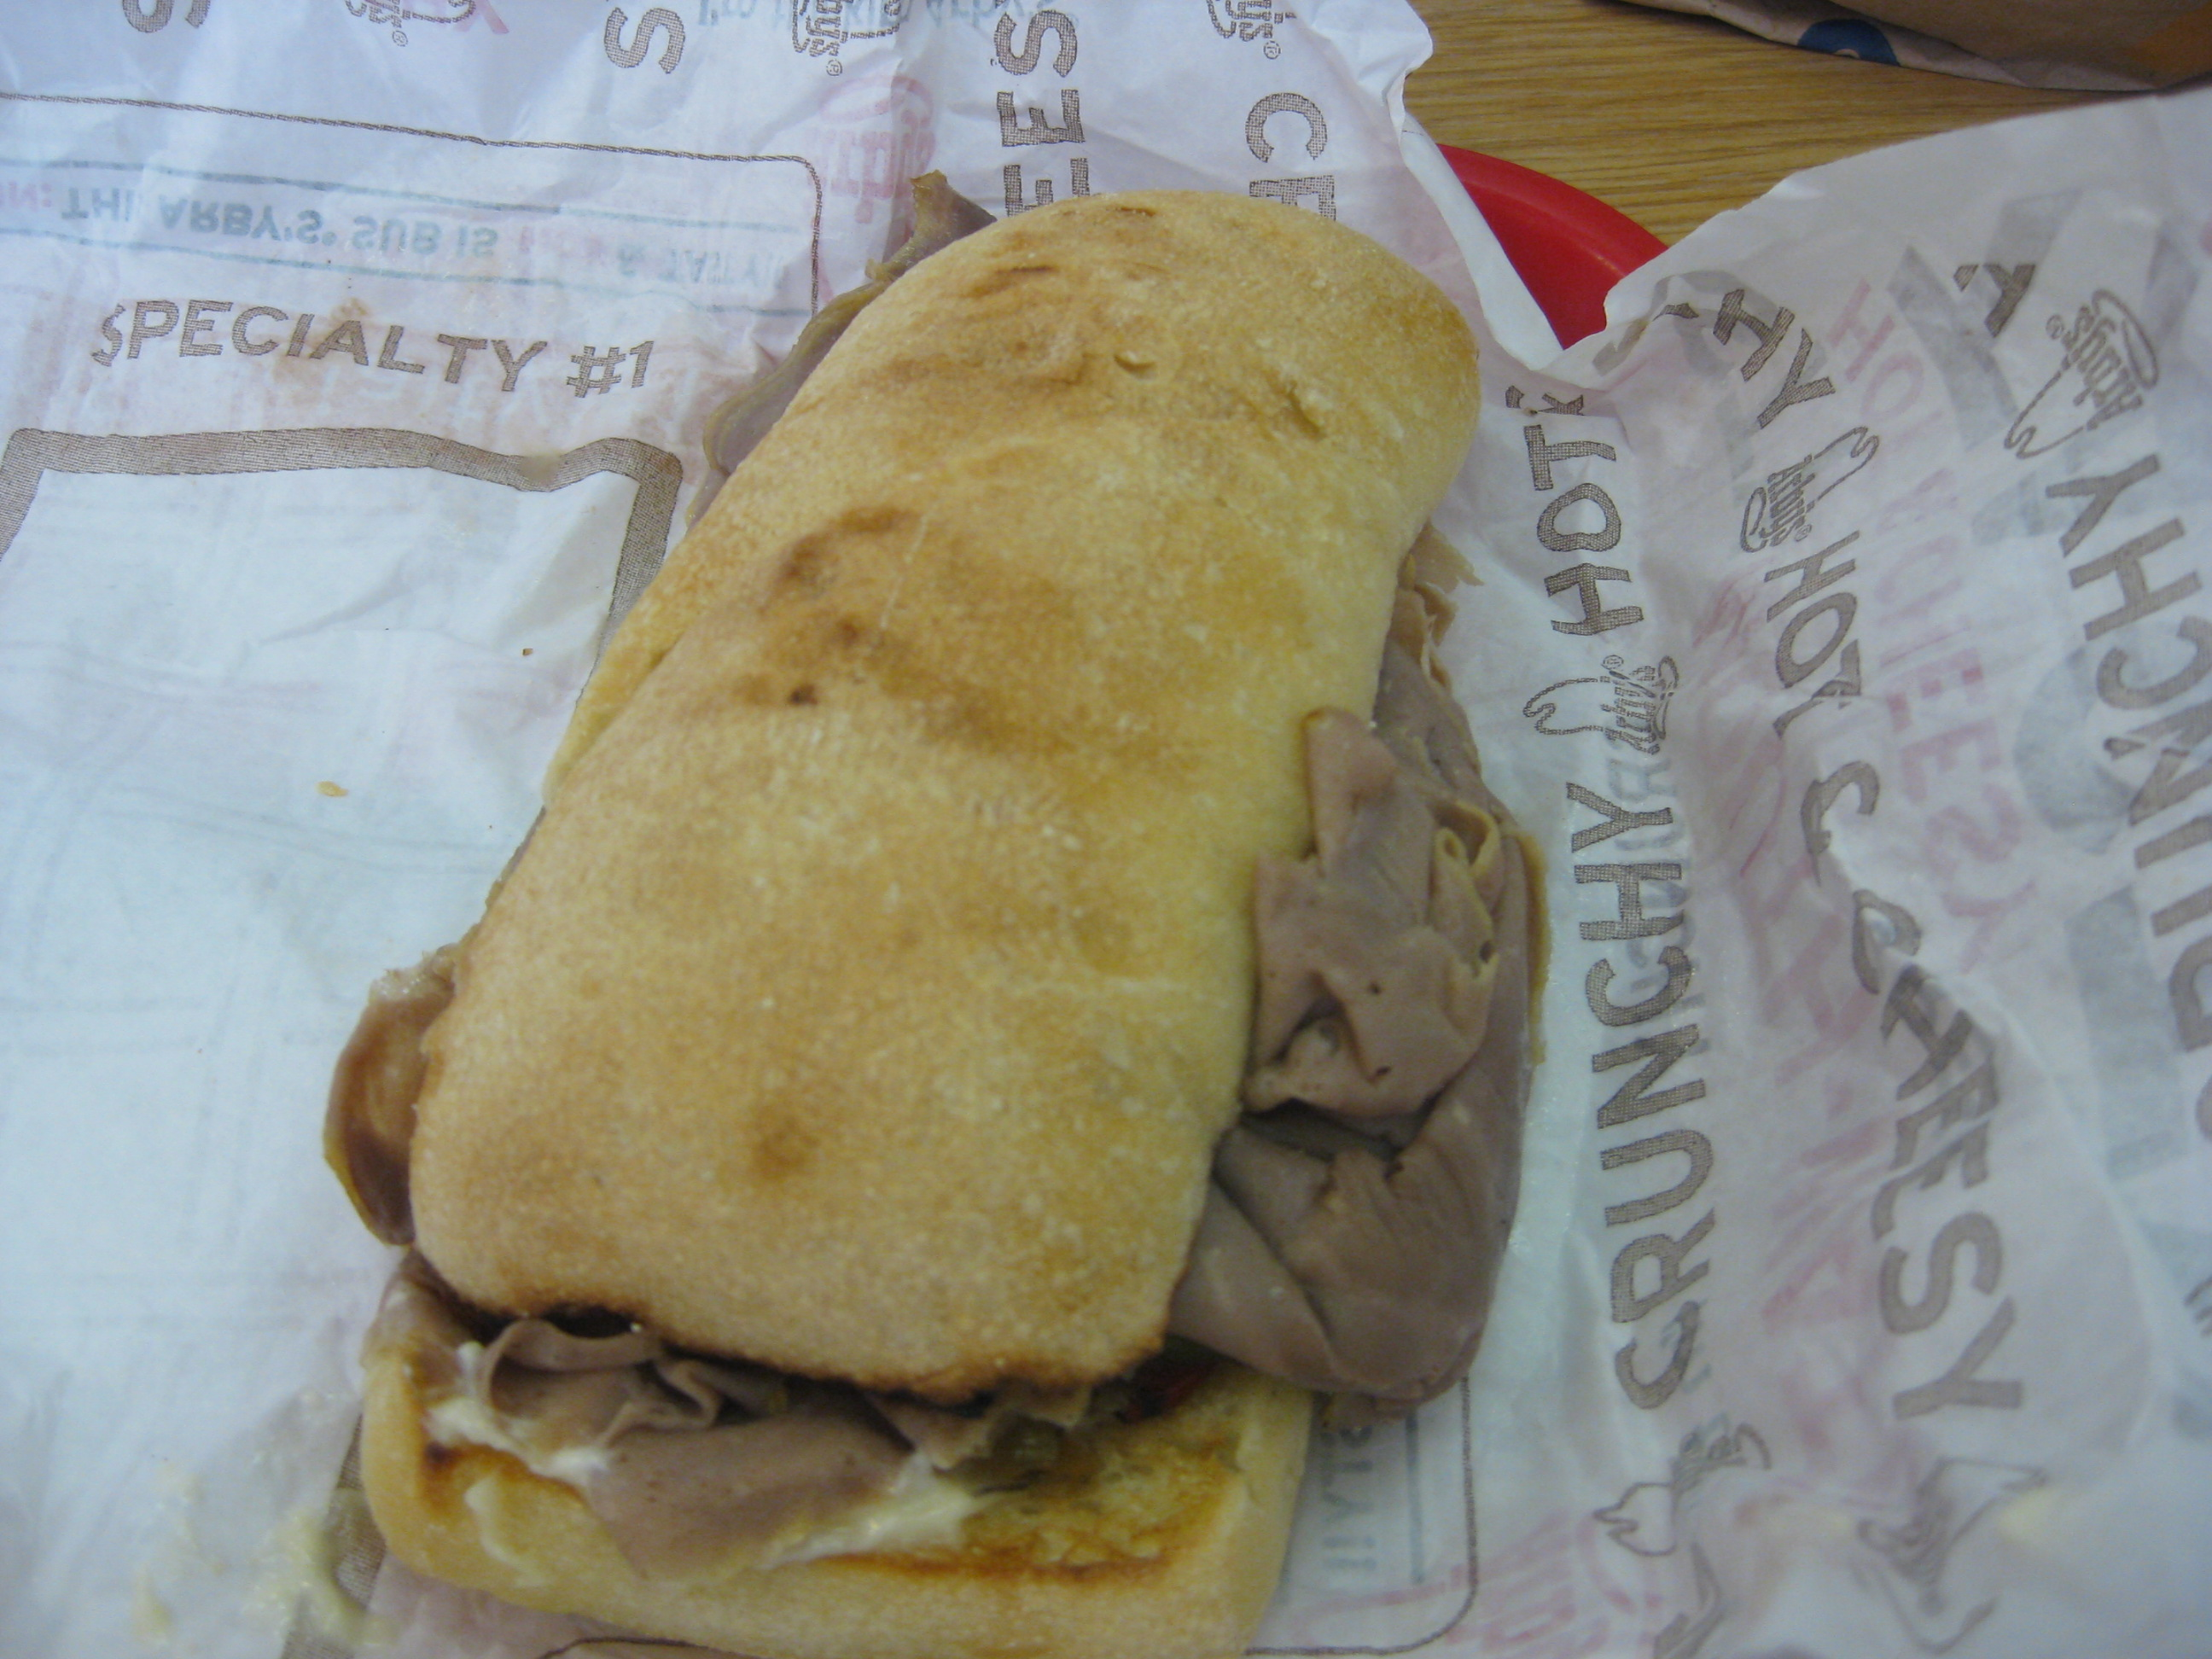sub: (279, 166, 1623, 1644)
